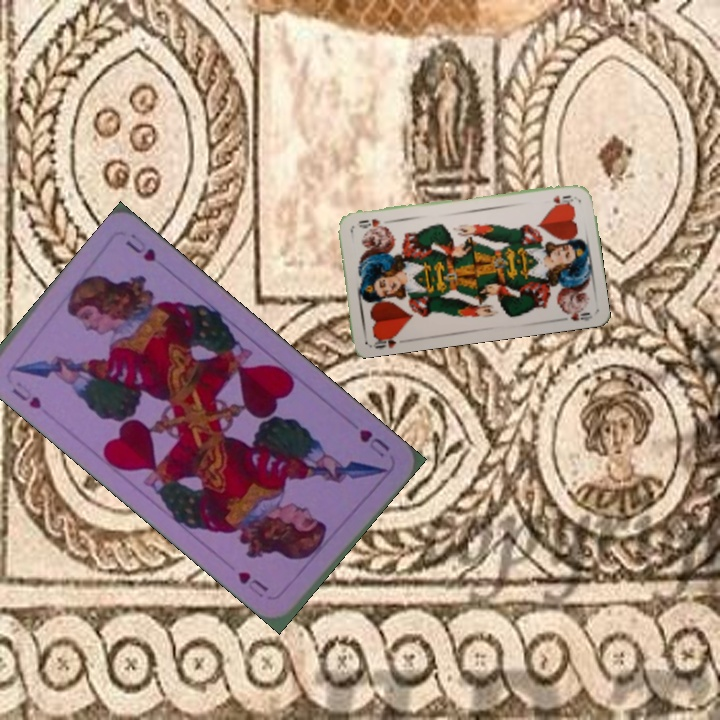HO: (367, 329, 401, 351), (549, 191, 578, 206)
HU: (355, 425, 393, 460), (8, 379, 44, 412)
